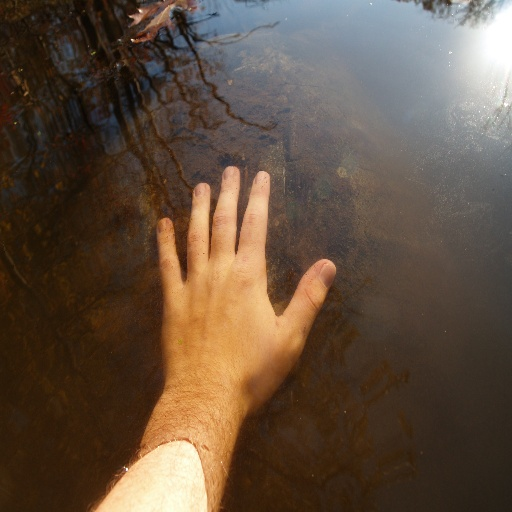hand: (127, 153, 325, 478)
